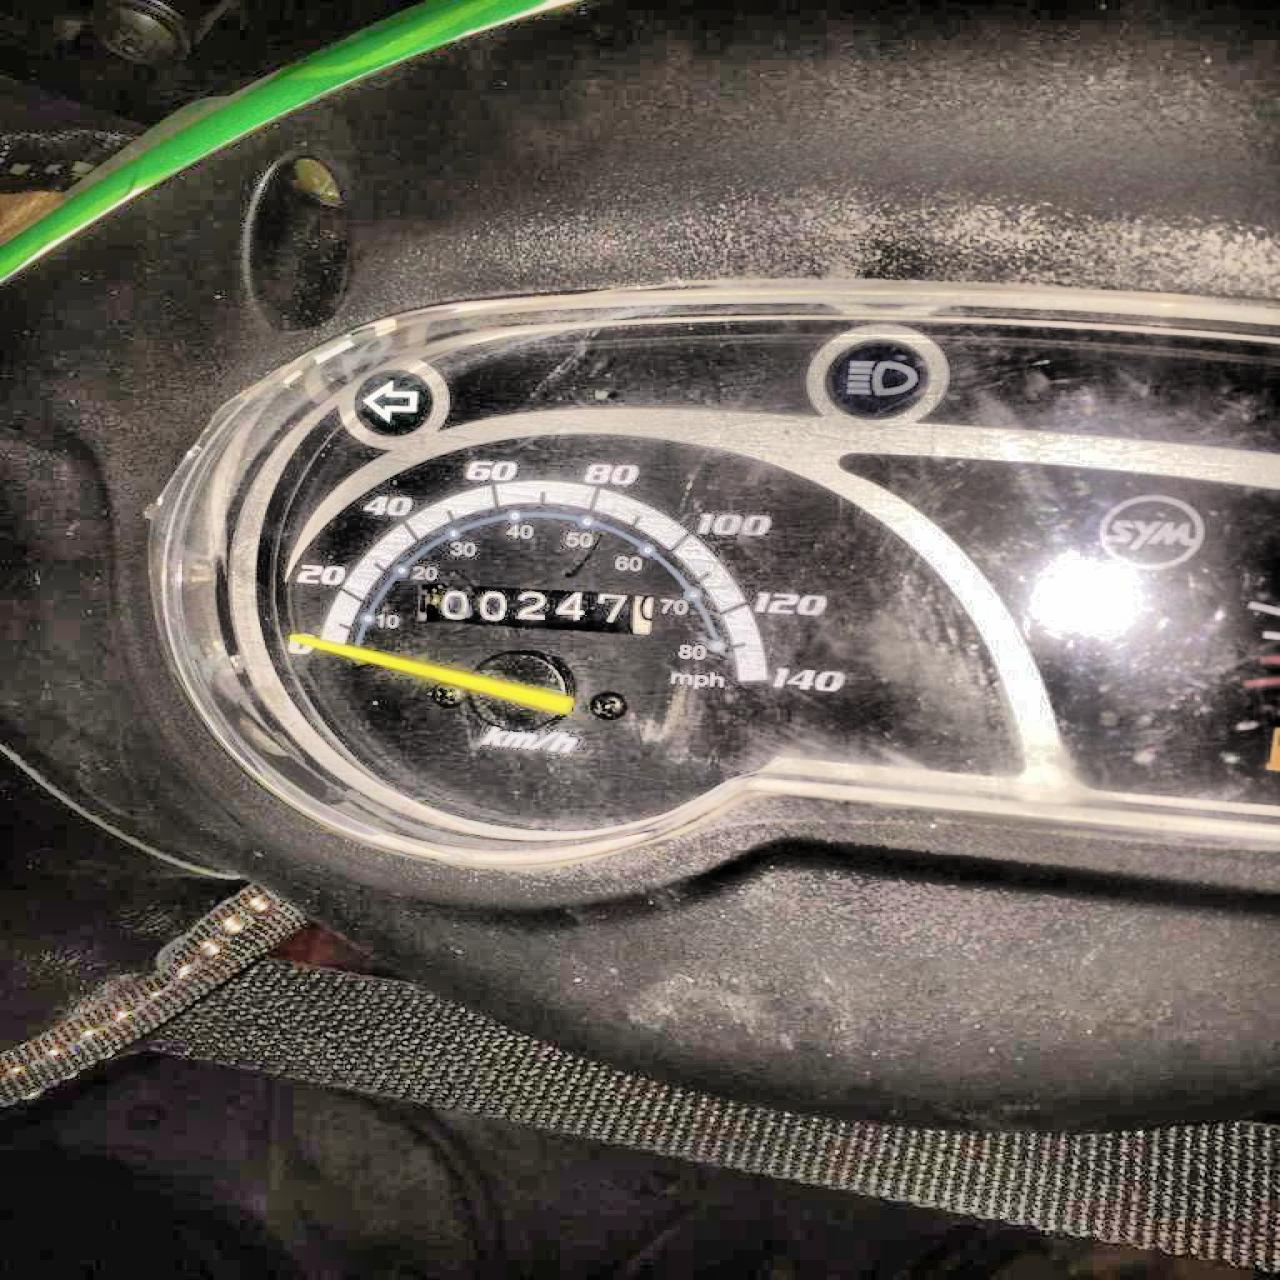0: (434, 587, 470, 622), (475, 590, 510, 624), (640, 592, 659, 622)
2: (515, 587, 545, 622)
4: (553, 590, 585, 620)
7: (592, 588, 625, 621)
odometer: (414, 580, 663, 634)
